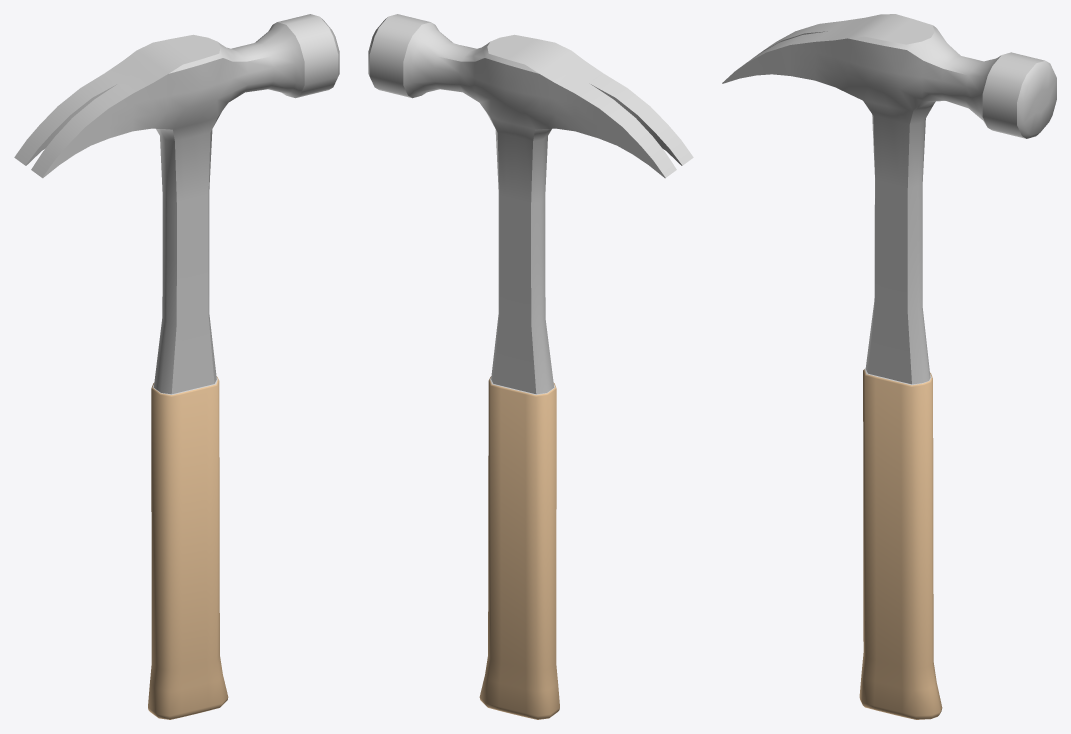
The model's file is hammer.fbx.
The picture shows the model from 3 angles, left to right: view 1: azimuth 30°, elevation 25°; view 2: azimuth 150°, elevation 25°; view 3: azimuth 330°, elevation 25°; orthographic projection. The views are drawn at different scales.
Visible parts, largest first — view 1: ClawHammer; view 2: ClawHammer; view 3: ClawHammer.
Part boxes in pixels (bbox=[...]): ClawHammer: bbox=[14, 14, 339, 719]; ClawHammer: bbox=[368, 14, 693, 719]; ClawHammer: bbox=[722, 14, 1056, 719].
Bounding box in the file's own units: 68.11 × 145 × 14.74.
